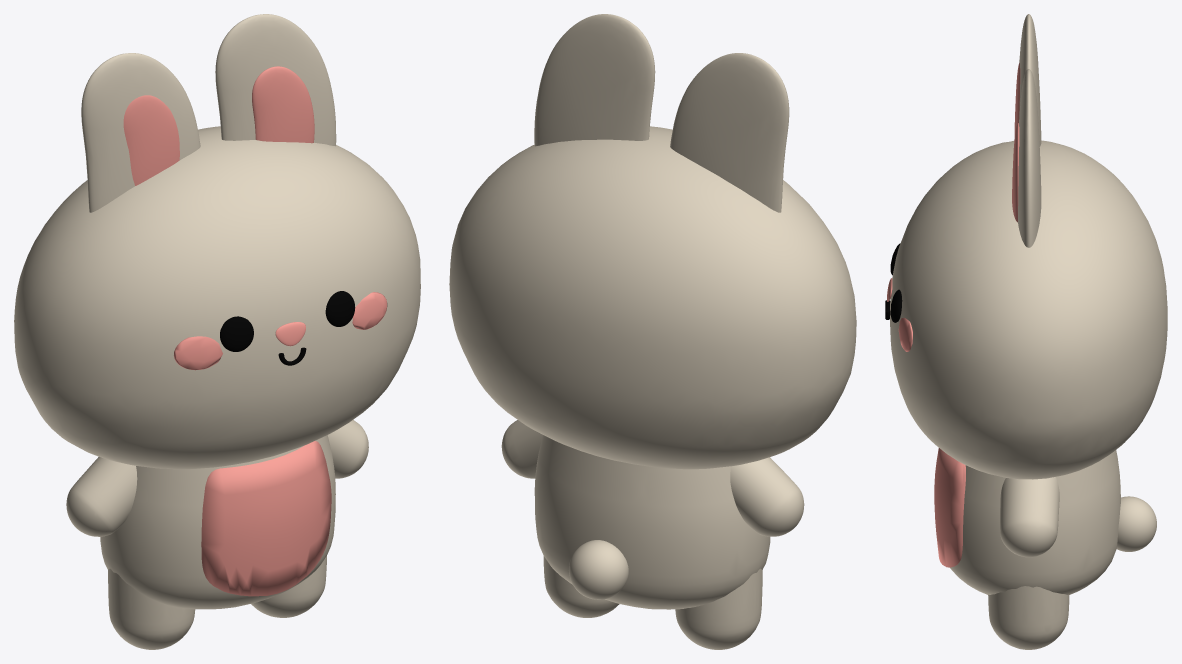
The model's file is cute_rabbit.glb.
3 views of the same model, side by side, from view 1: azimuth 30°, elevation 25°; view 2: azimuth 150°, elevation 25°; view 3: azimuth 270°, elevation 25° (orthographic). The views are drawn at different scales.
Visible parts, largest first — view 1: ras, kerch 2, bdan, wedhnen 1.001, wedhnen 1, iden _Material.007_0, sa9in, wedhnen 1.002, wedhnen 1.003, 5doud.001, 3enin; view 2: ras, bdan, wedhnen 1.001, wedhnen 1, iden _Material.007_0, sa9in, ba3bous; view 3: ras, bdan, iden _Material.007_0, sa9in, wedhnen 1, kerch 2, ba3bous, wedhnen 1.001, wedhnen 1.002, 3enin.
Boxes of the visible parts, bbox=[...] form: ras: bbox=[14, 126, 420, 469]; kerch 2: bbox=[201, 441, 331, 596]; bdan: bbox=[100, 435, 335, 609]; wedhnen 1.001: bbox=[81, 53, 200, 212]; wedhnen 1: bbox=[215, 14, 336, 146]; iden _Material.007_0: bbox=[66, 420, 368, 536]; sa9in: bbox=[108, 556, 326, 649]; wedhnen 1.002: bbox=[252, 66, 314, 143]; wedhnen 1.003: bbox=[123, 95, 179, 185]; 5doud.001: bbox=[174, 292, 387, 370]; 3enin: bbox=[220, 291, 355, 351]; ras: bbox=[449, 126, 856, 469]; bdan: bbox=[534, 435, 770, 609]; wedhnen 1.001: bbox=[670, 53, 789, 212]; wedhnen 1: bbox=[534, 14, 655, 146]; iden _Material.007_0: bbox=[501, 420, 804, 536]; sa9in: bbox=[543, 556, 762, 649]; ba3bous: bbox=[569, 540, 628, 599]; ras: bbox=[890, 140, 1167, 479]; bdan: bbox=[950, 450, 1120, 594]; iden _Material.007_0: bbox=[1000, 477, 1059, 557]; sa9in: bbox=[988, 586, 1069, 649]; wedhnen 1: bbox=[1018, 69, 1041, 247]; kerch 2: bbox=[934, 448, 965, 567]; ba3bous: bbox=[1116, 496, 1156, 551]; wedhnen 1.001: bbox=[1019, 14, 1041, 146]; wedhnen 1.002: bbox=[1012, 123, 1019, 222]; 3enin: bbox=[890, 243, 902, 322].
Size of the model in its own units: 4.6 by 7.03 by 3.21.
